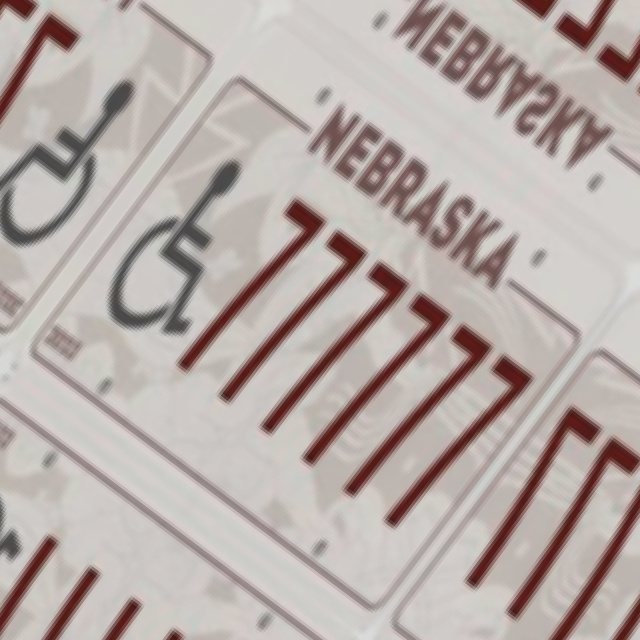ISA: (90, 141, 285, 357), (0, 45, 157, 261), (0, 469, 38, 640)
